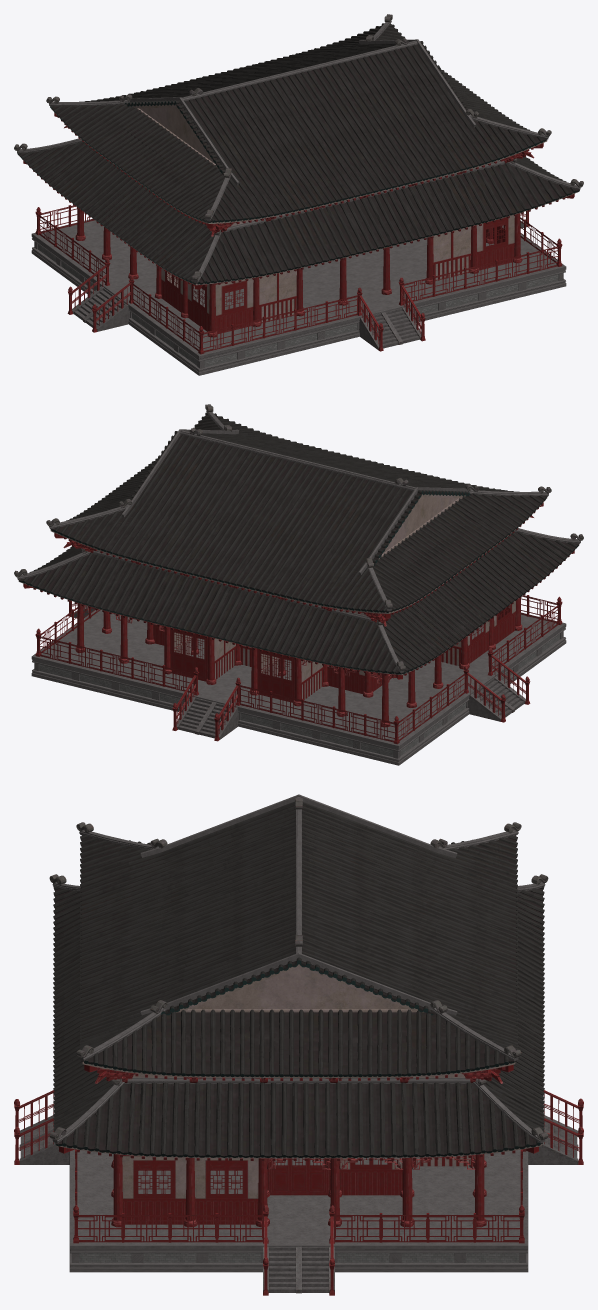
Rendered from quan-am-cac.glb.
3 views of the same model, one above another, from view 1: azimuth 30°, elevation 25°; view 2: azimuth 150°, elevation 25°; view 3: azimuth 270°, elevation 25° (orthographic). The views are drawn at different scales.
Visible parts, largest first — view 1: quan-am-cac; view 2: quan-am-cac; view 3: quan-am-cac.
Boxes of the visible parts, box(x1,y1,x2,y2) form: quan-am-cac: box(14, 14, 583, 375); quan-am-cac: box(14, 404, 583, 765); quan-am-cac: box(14, 794, 583, 1295).
Size of the model in its own units: 22.93 by 10.3 by 18.93.
13 materials, 13 textured.
